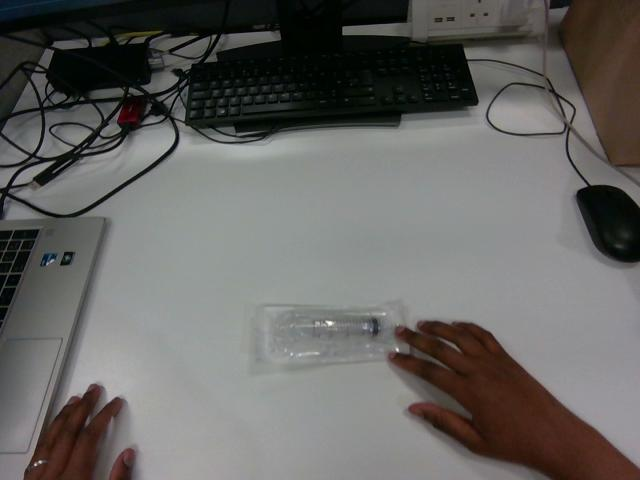syringe: (255, 302, 404, 363)
